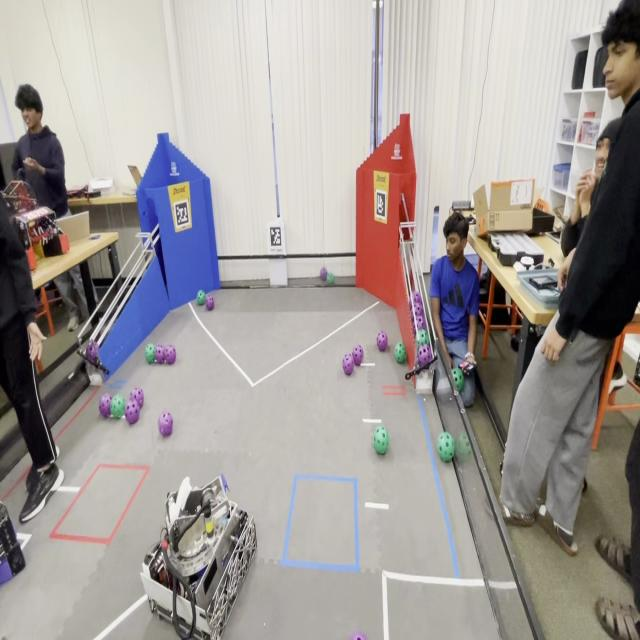artifact_green: (437, 432, 454, 462), (455, 432, 472, 461), (374, 425, 388, 455), (111, 394, 125, 418), (452, 367, 464, 391), (394, 343, 406, 364), (145, 343, 155, 364), (417, 329, 429, 346), (196, 290, 206, 306), (326, 272, 334, 286), (320, 267, 327, 281)
artifact_purple: (125, 400, 140, 424), (159, 412, 173, 437), (85, 340, 99, 364), (418, 344, 432, 367), (99, 394, 111, 418), (130, 387, 143, 408), (164, 345, 176, 365), (343, 354, 354, 375), (352, 345, 363, 366), (377, 331, 388, 351), (156, 344, 165, 363), (416, 315, 426, 330), (206, 294, 214, 311), (412, 290, 422, 303), (414, 303, 423, 316), (351, 632, 367, 639), (320, 267, 327, 281), (411, 319, 417, 335)
